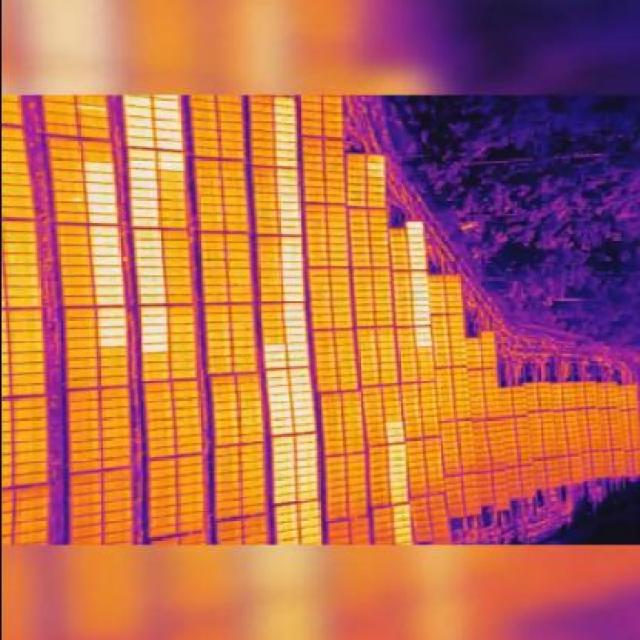diode: (124, 105, 151, 121), (81, 163, 112, 175), (153, 112, 178, 125), (155, 121, 180, 134), (157, 142, 181, 155), (95, 312, 126, 322), (133, 236, 161, 247), (159, 164, 184, 176), (124, 98, 148, 110), (96, 332, 124, 342), (92, 258, 120, 268), (92, 249, 117, 260), (89, 228, 116, 238), (158, 133, 182, 144), (158, 152, 182, 163), (88, 198, 114, 208), (97, 323, 125, 332), (89, 241, 117, 250), (153, 103, 181, 112), (129, 180, 157, 189), (95, 291, 122, 300), (92, 270, 119, 279), (85, 187, 112, 196), (125, 138, 152, 147), (134, 256, 164, 264), (134, 246, 164, 254), (94, 280, 120, 289), (141, 341, 167, 350), (131, 212, 160, 220), (128, 200, 157, 208), (140, 314, 165, 323), (139, 298, 164, 307), (139, 270, 164, 279), (137, 262, 165, 270), (130, 190, 158, 198), (126, 160, 154, 168), (283, 258, 305, 268), (295, 522, 317, 532), (270, 454, 292, 464), (89, 210, 116, 218), (141, 324, 165, 333), (274, 120, 298, 129), (294, 454, 315, 464), (138, 290, 164, 298), (293, 497, 316, 506), (275, 100, 297, 109), (283, 267, 305, 276), (295, 487, 317, 496), (129, 171, 157, 178), (127, 151, 155, 158), (142, 333, 166, 341), (139, 280, 163, 288), (286, 292, 305, 302), (85, 178, 112, 185), (262, 353, 283, 362), (265, 381, 286, 390), (74, 106, 105, 112), (125, 122, 148, 130), (272, 472, 290, 482), (270, 496, 288, 506), (275, 137, 297, 145), (296, 512, 318, 520), (263, 389, 285, 397), (283, 306, 305, 314), (96, 342, 125, 348), (275, 180, 294, 189), (409, 293, 428, 302), (276, 111, 295, 120), (295, 421, 314, 430), (292, 412, 311, 421), (265, 371, 284, 380), (269, 439, 288, 448), (97, 302, 125, 308), (154, 95, 178, 102), (133, 230, 161, 236), (133, 222, 161, 228), (271, 447, 292, 455), (89, 220, 116, 226), (125, 132, 152, 138), (285, 349, 303, 358), (287, 373, 305, 382), (297, 464, 315, 473), (264, 362, 282, 371), (273, 488, 289, 498), (276, 199, 298, 206), (283, 335, 305, 342), (292, 439, 314, 446), (270, 428, 292, 435), (268, 464, 290, 471), (295, 504, 317, 511), (285, 277, 304, 285), (295, 473, 314, 481), (273, 516, 292, 524), (271, 508, 292, 515), (407, 246, 425, 254), (410, 287, 428, 295), (277, 207, 295, 215), (282, 250, 300, 258), (286, 358, 302, 367), (295, 429, 313, 437), (270, 419, 288, 427), (387, 479, 405, 487), (390, 526, 408, 534), (140, 349, 168, 354), (274, 131, 297, 137), (278, 222, 297, 229), (276, 164, 298, 170), (282, 286, 304, 292), (285, 382, 307, 388), (286, 391, 308, 397), (270, 482, 292, 488), (260, 346, 282, 352), (298, 540, 320, 546), (412, 302, 428, 310), (277, 94, 298, 100), (275, 146, 296, 152), (277, 154, 295, 161), (277, 189, 295, 196), (278, 241, 299, 247), (267, 399, 285, 406), (384, 438, 402, 445), (274, 535, 292, 542), (139, 310, 164, 315), (274, 172, 294, 178), (283, 316, 302, 322), (286, 342, 305, 348), (299, 532, 318, 538), (268, 404, 287, 410), (268, 412, 287, 418), (285, 324, 304, 330), (119, 94, 147, 98), (408, 239, 422, 247), (412, 331, 428, 338), (276, 525, 292, 532), (293, 482, 315, 487), (408, 254, 426, 260), (408, 261, 426, 267), (284, 328, 302, 334), (281, 232, 299, 238), (290, 407, 308, 413), (295, 448, 313, 454), (385, 422, 400, 429), (388, 474, 403, 481), (391, 512, 406, 519), (383, 431, 400, 437), (389, 504, 406, 510), (366, 167, 383, 173), (411, 310, 427, 316), (291, 400, 307, 406), (385, 450, 401, 456), (386, 457, 402, 463), (388, 490, 404, 496), (391, 522, 407, 528), (405, 223, 421, 229), (411, 280, 426, 286), (387, 496, 402, 502), (289, 370, 306, 375), (415, 342, 428, 348), (389, 464, 402, 470), (404, 232, 422, 236), (415, 323, 427, 329), (280, 215, 298, 219), (390, 537, 407, 541), (413, 317, 429, 321), (366, 174, 382, 178), (410, 275, 425, 279), (409, 268, 423, 272), (412, 338, 426, 342), (393, 542, 407, 544)
hotspot: (373, 160, 382, 165)
